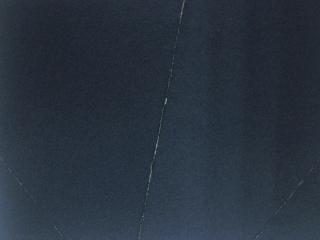crack: (132, 0, 192, 240), (1, 158, 65, 240), (252, 163, 320, 240)
